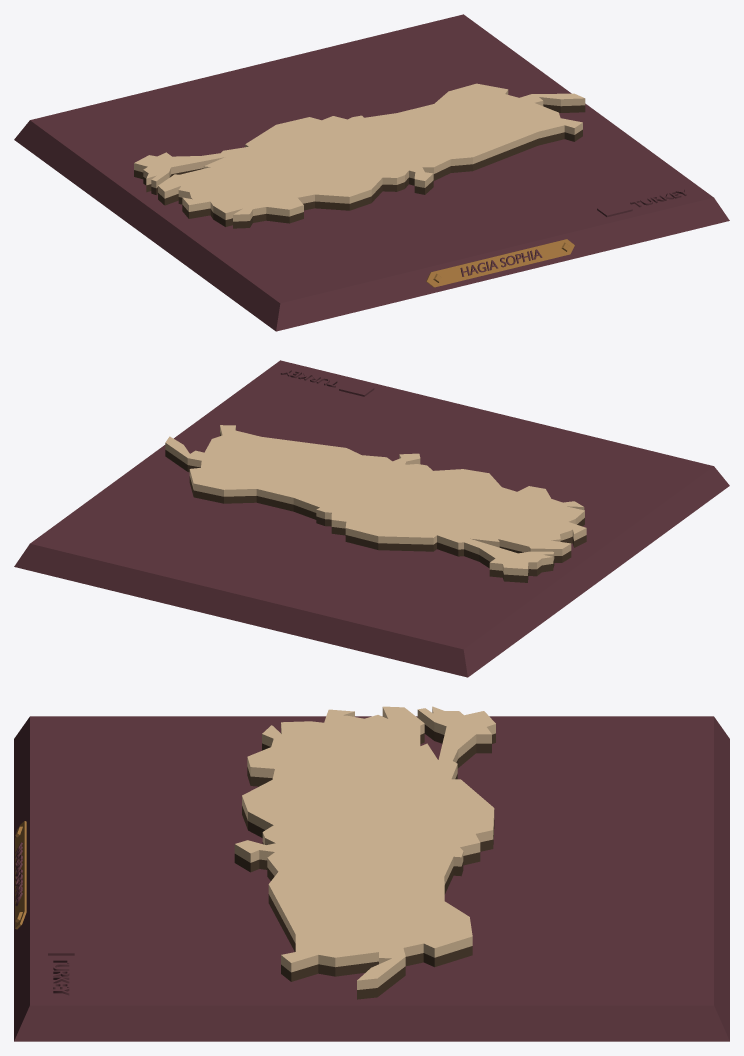
Rendered from SM_Island_HagiaSophia_Landmark.fbx.
3 views of the same model, one above another, from view 1: azimuth 30°, elevation 25°; view 2: azimuth 150°, elevation 25°; view 3: azimuth 270°, elevation 25° (orthographic). The views are drawn at different scales.
Visible parts, largest first — view 1: Island_HagiaSophia_Landmark; view 2: Island_HagiaSophia_Landmark; view 3: Island_HagiaSophia_Landmark.
Boxes of the visible parts, bbox=[...] form: Island_HagiaSophia_Landmark: bbox=[14, 14, 729, 331]; Island_HagiaSophia_Landmark: bbox=[14, 360, 729, 677]; Island_HagiaSophia_Landmark: bbox=[14, 706, 729, 1041].
Bounding box in the file's own units: 68.5 × 5.09 × 68.5.
